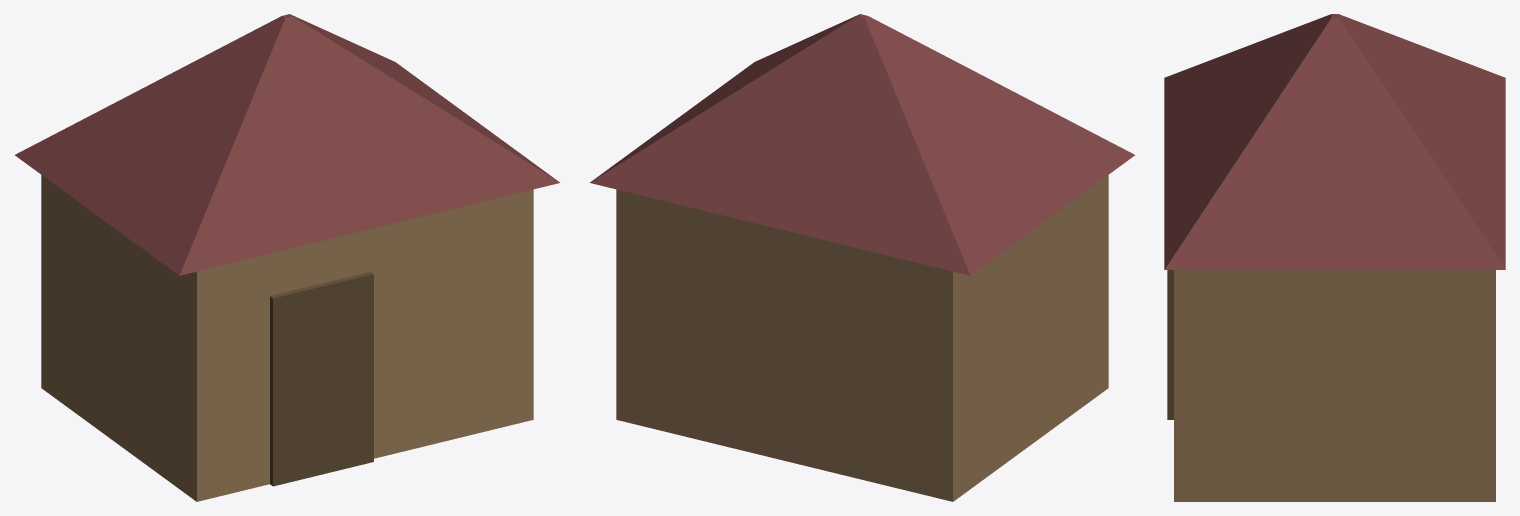
File: depot.glb
The picture shows the model from 3 angles, left to right: view 1: azimuth 30°, elevation 25°; view 2: azimuth 150°, elevation 25°; view 3: azimuth 270°, elevation 25°; orthographic projection. The views are drawn at different scales.
Visible parts, largest first — view 1: Shed, Roof, Door; view 2: Shed, Roof; view 3: Roof, Shed, Door.
Part boxes in pixels (<box>): Shed: <box>41,175,533,501</box>; Roof: <box>15,14,559,275</box>; Door: <box>270,271,373,486</box>; Shed: <box>616,175,1108,501</box>; Roof: <box>590,14,1134,275</box>; Roof: <box>1164,14,1505,269</box>; Shed: <box>1174,270,1495,501</box>; Door: <box>1167,270,1173,419</box>.
Bounding box in the file's own units: 3.39 × 3.3 × 2.55.
